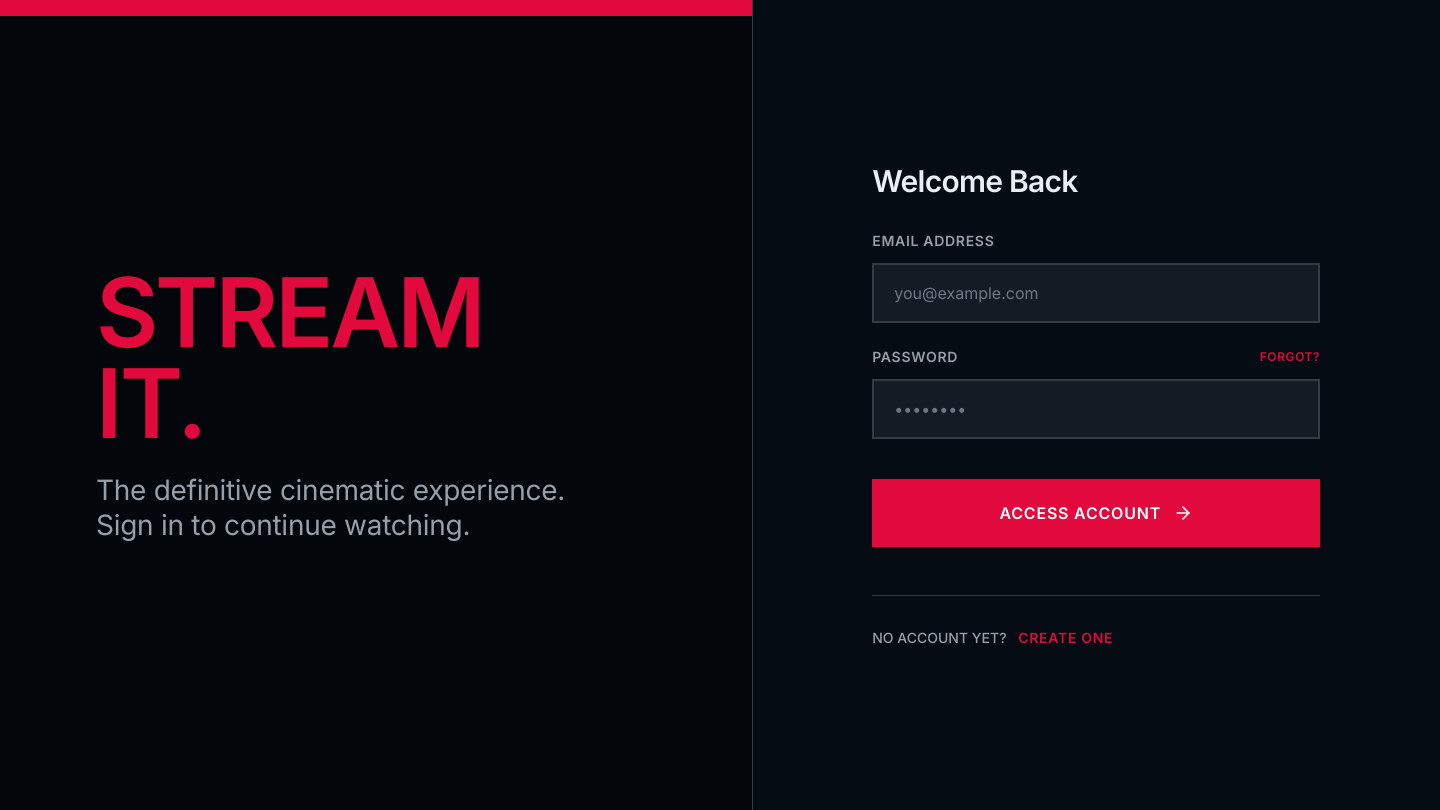
Test: Login Component › displays error message when login fails with invalid credentials
Type "wrong@example.com" into the field labelled "Email Address".
click(1096, 292); type("wrong@example.com")  # box x1=872 y1=262 x2=1320 y2=322
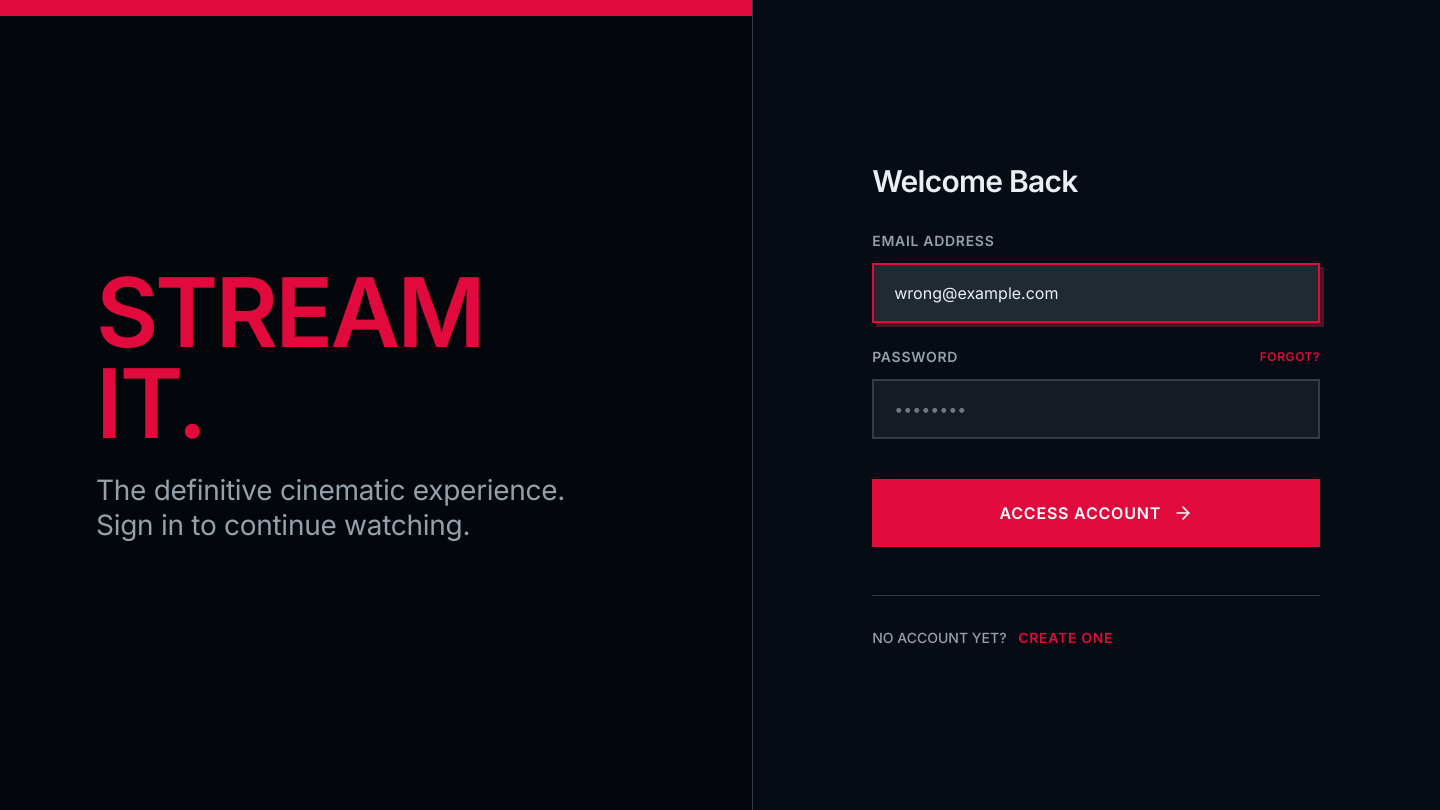
Type "wrongpassword" into the password field labelled "Password".
click(1096, 408); type("wrongpassword")  # box x1=872 y1=378 x2=1320 y2=438
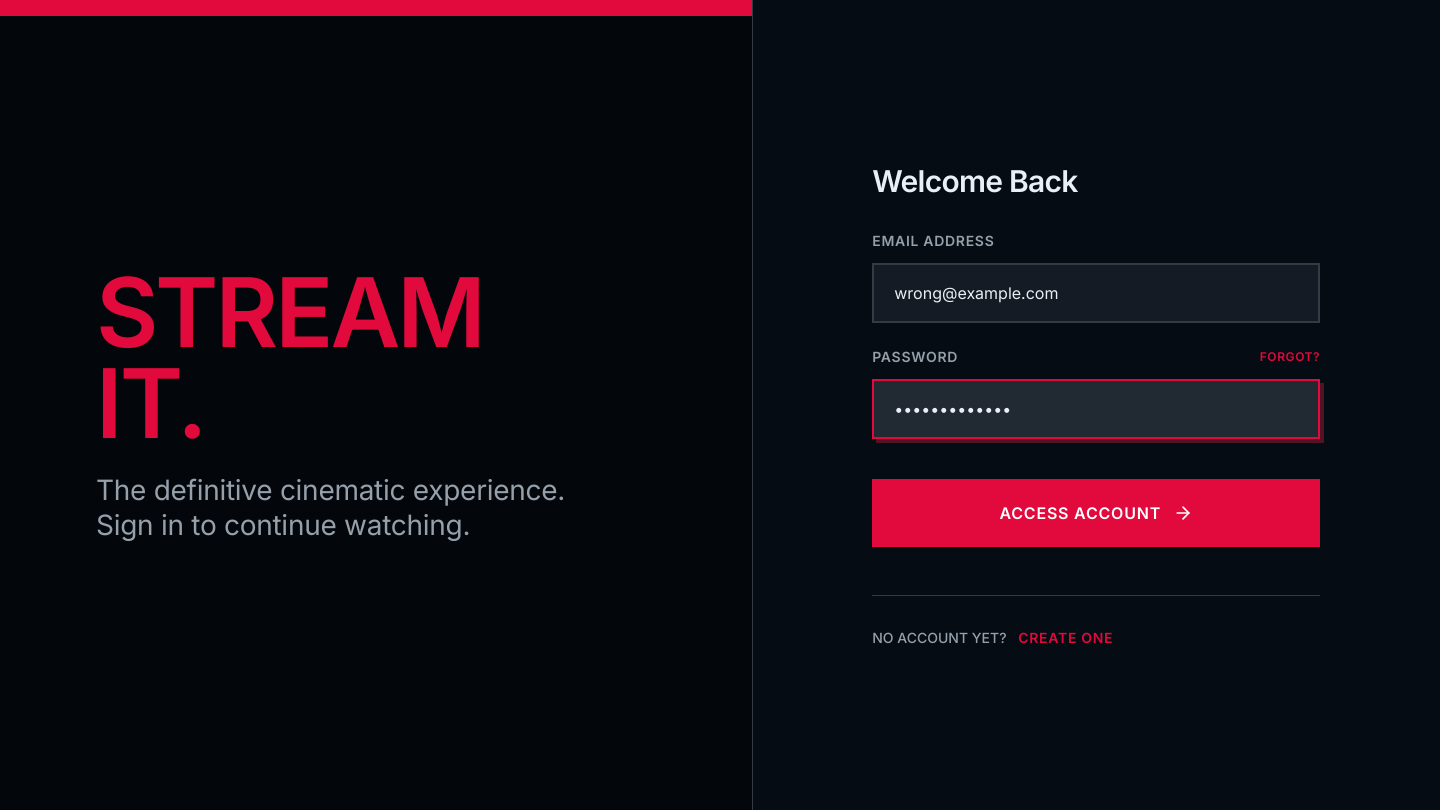
Click the button "Access Account".
click(1096, 512)  # box x1=872 y1=478 x2=1320 y2=546
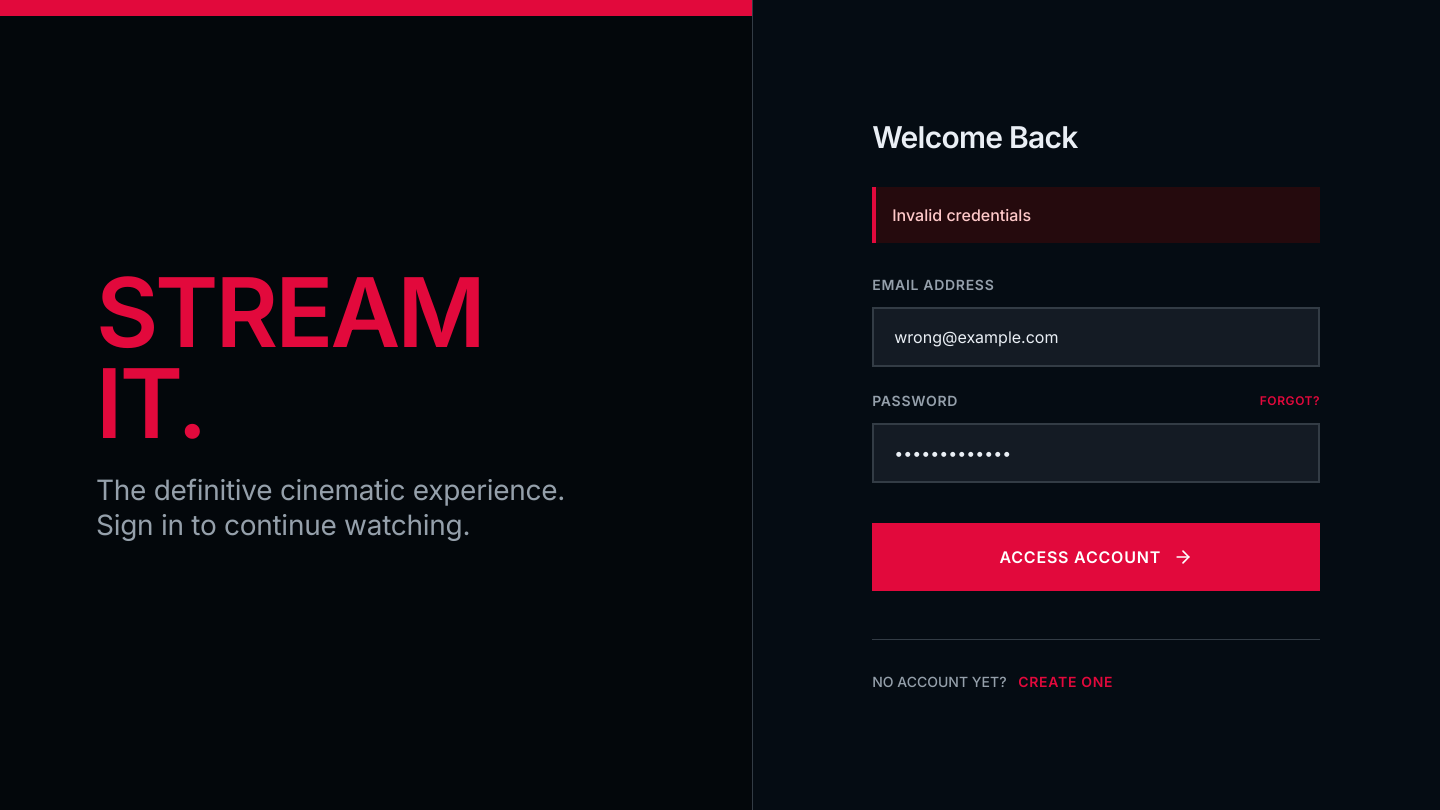
Expected: the text "Invalid credentials" is shown, x1=872 y1=186 x2=1320 y2=242
